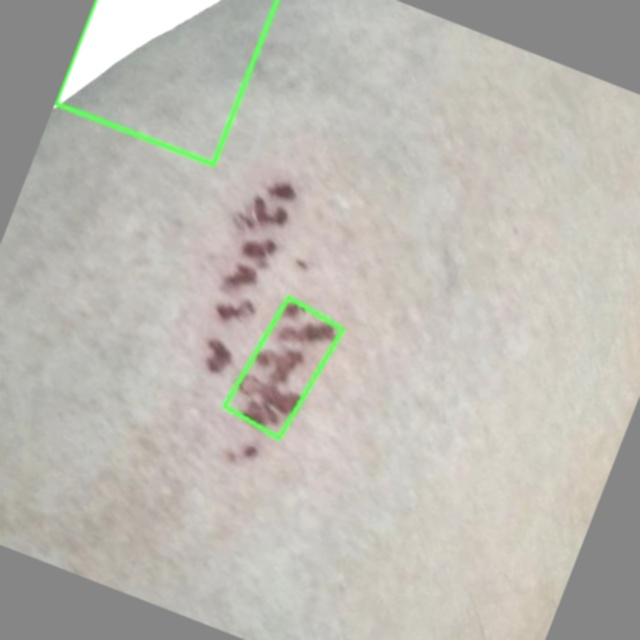Scabies: (55, 0, 276, 164), (224, 298, 343, 439)
